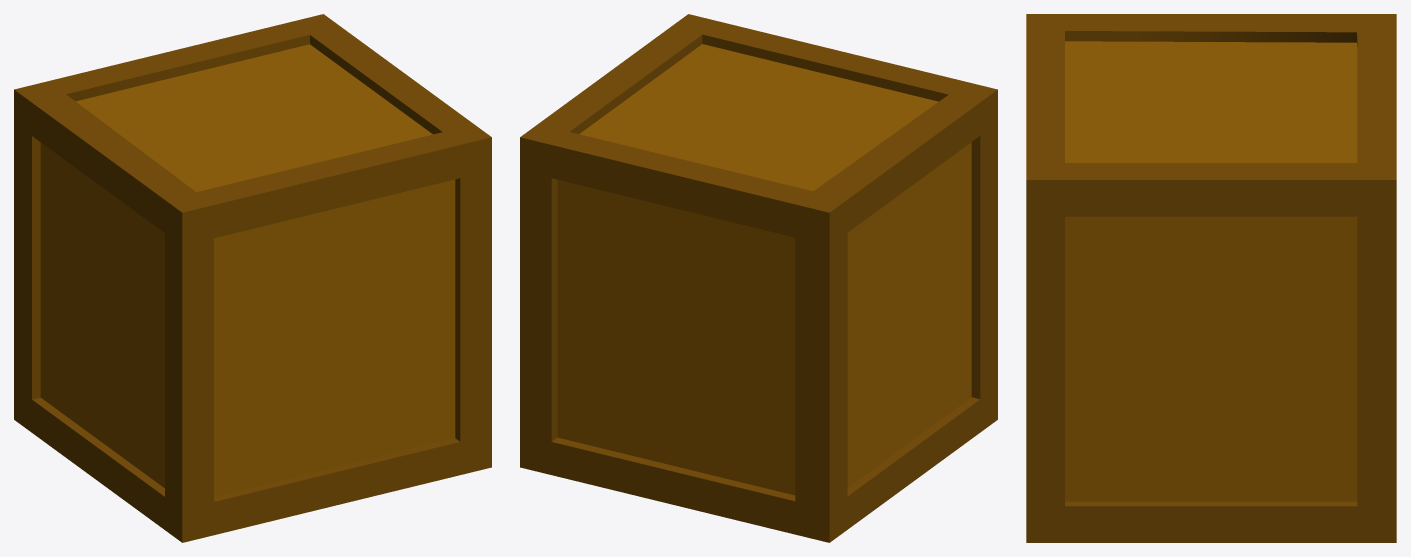
Rendered from Crate.fbx.
3 views of the same model, side by side, from view 1: azimuth 30°, elevation 25°; view 2: azimuth 150°, elevation 25°; view 3: azimuth 270°, elevation 25° (orthographic). The views are drawn at different scales.
Parts seen in each view (by area): view 1: polySurface15, polySurface3, polySurface17, polySurface12, polySurface11, polySurface9, polySurface5, polySurface10, polySurface14, polySurface16, polySurface7; view 2: polySurface3, polySurface16, polySurface9, polySurface17, polySurface14, polySurface13, polySurface7, polySurface11, polySurface5, polySurface10, polySurface15; view 3: polySurface15, polySurface16, polySurface3, polySurface12, polySurface7, polySurface10, polySurface13, polySurface9, polySurface17, polySurface5.
Part boxes in pixels (x1,y1,x2,y2): polySurface15: [246, 107, 455, 488]; polySurface3: [40, 55, 305, 434]; polySurface17: [91, 136, 319, 496]; polySurface12: [239, 241, 491, 528]; polySurface11: [77, 299, 248, 542]; polySurface9: [14, 29, 268, 208]; polySurface5: [132, 161, 332, 310]; polySurface10: [323, 90, 491, 248]; polySurface14: [14, 190, 91, 465]; polySurface16: [266, 44, 395, 135]; polySurface7: [261, 14, 427, 107]; polySurface3: [603, 97, 936, 495]; polySurface16: [557, 78, 758, 466]; polySurface9: [583, 116, 953, 313]; polySurface17: [760, 73, 971, 456]; polySurface14: [667, 300, 898, 542]; polySurface13: [520, 243, 676, 505]; polySurface7: [520, 61, 657, 250]; polySurface11: [890, 188, 997, 496]; polySurface5: [820, 53, 997, 200]; polySurface10: [624, 14, 846, 77]; polySurface15: [656, 44, 821, 96]; polySurface15: [1065, 109, 1285, 501]; polySurface16: [1153, 121, 1357, 501]; polySurface3: [1132, 41, 1357, 149]; polySurface12: [1026, 294, 1300, 542]; polySurface7: [1163, 141, 1396, 296]; polySurface10: [1026, 94, 1180, 294]; polySurface13: [1286, 296, 1396, 542]; polySurface9: [1124, 14, 1396, 146]; polySurface17: [1065, 41, 1152, 121]; polySurface5: [1026, 14, 1132, 99].
Size of the model in its own units: 1.68 by 1.71 by 1.58.
